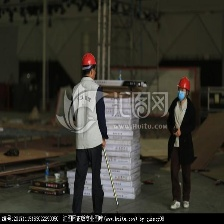helmet: (82, 51, 99, 68), (177, 81, 191, 93)
no-vest: (168, 97, 195, 166)
person: (168, 78, 196, 212)
